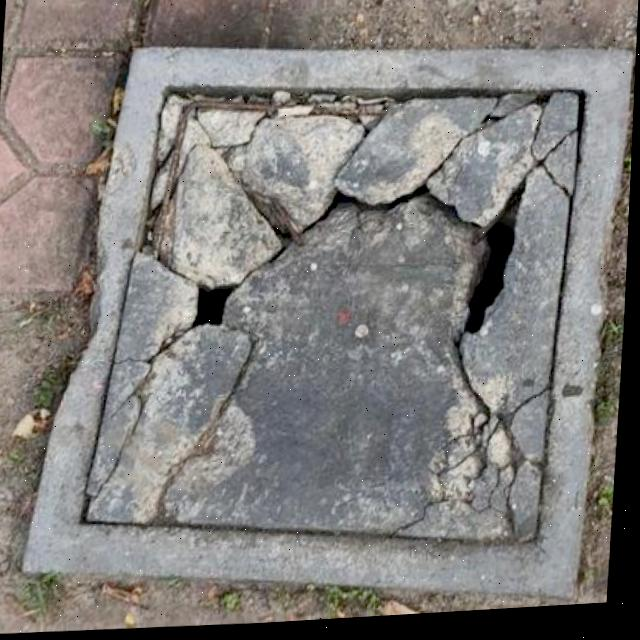manhole: (49, 47, 605, 590)
